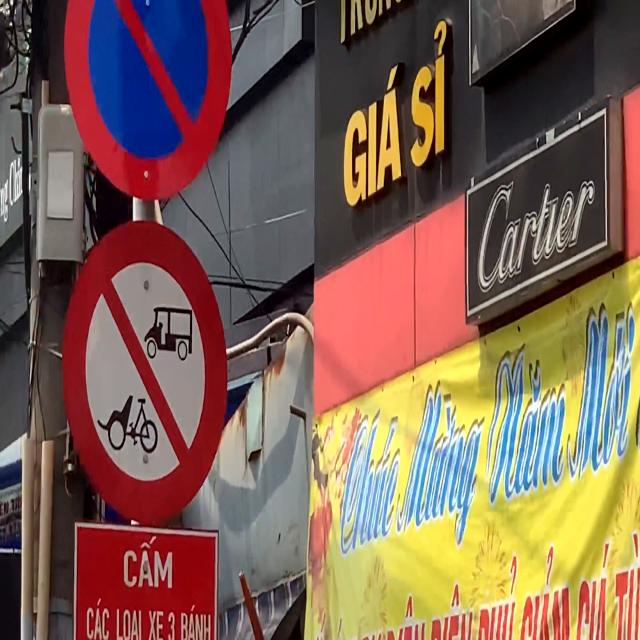P.131a: (63, 0, 234, 205)
